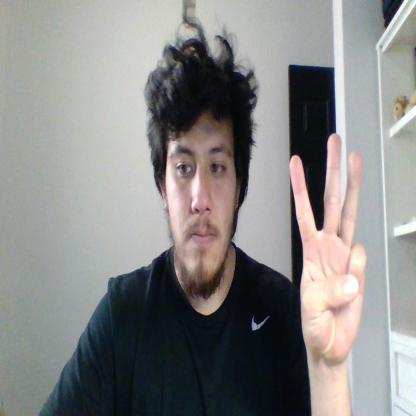W: (289, 131, 366, 363)
